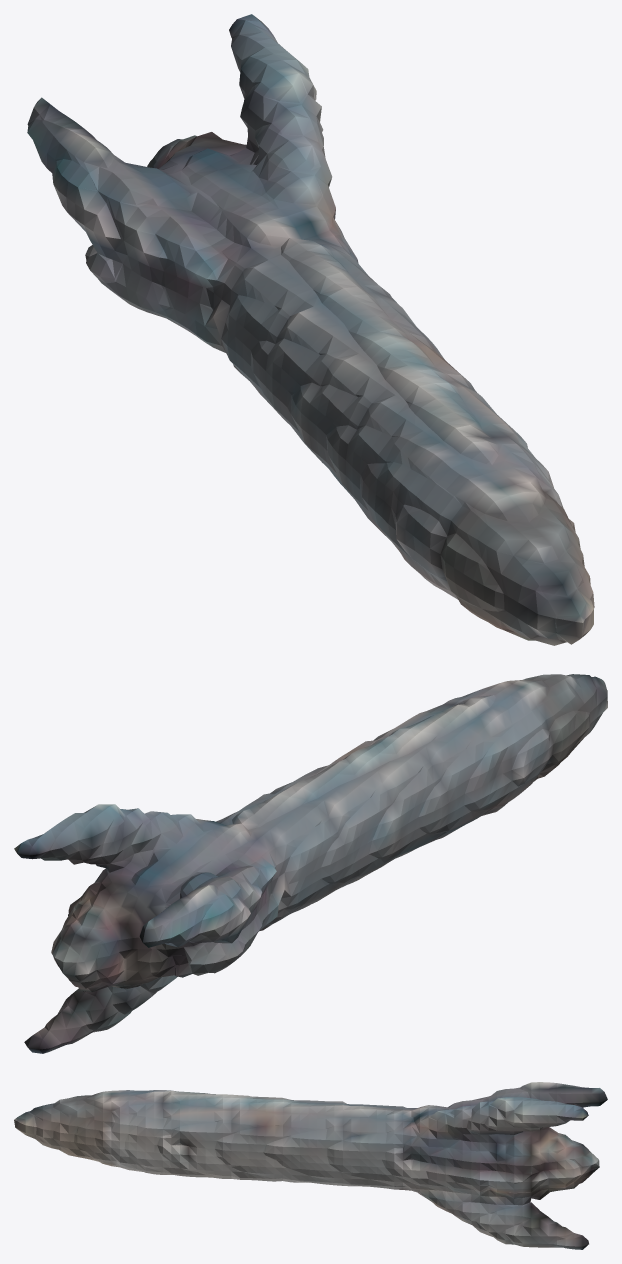
3 views of the same model, one above another, from view 1: azimuth 30°, elevation 25°; view 2: azimuth 150°, elevation 25°; view 3: azimuth 270°, elevation 25° (orthographic). The views are drawn at different scales.
Parts seen in each view (by area): view 1: world; view 2: world; view 3: world.
Boxes of the visible parts, box(x1,y1,x2,y2) form: world: box(27, 14, 594, 645); world: box(14, 674, 607, 1053); world: box(14, 1082, 607, 1249).
Bounding box in the file's own units: 0.2664 × 0.2599 × 0.9496.
